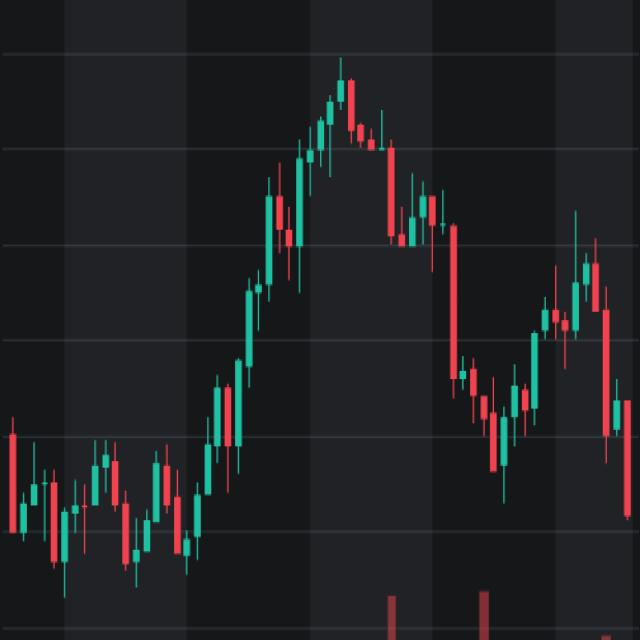Support-breakout: (402, 177, 640, 468)
rectangle: (3, 421, 216, 584)
